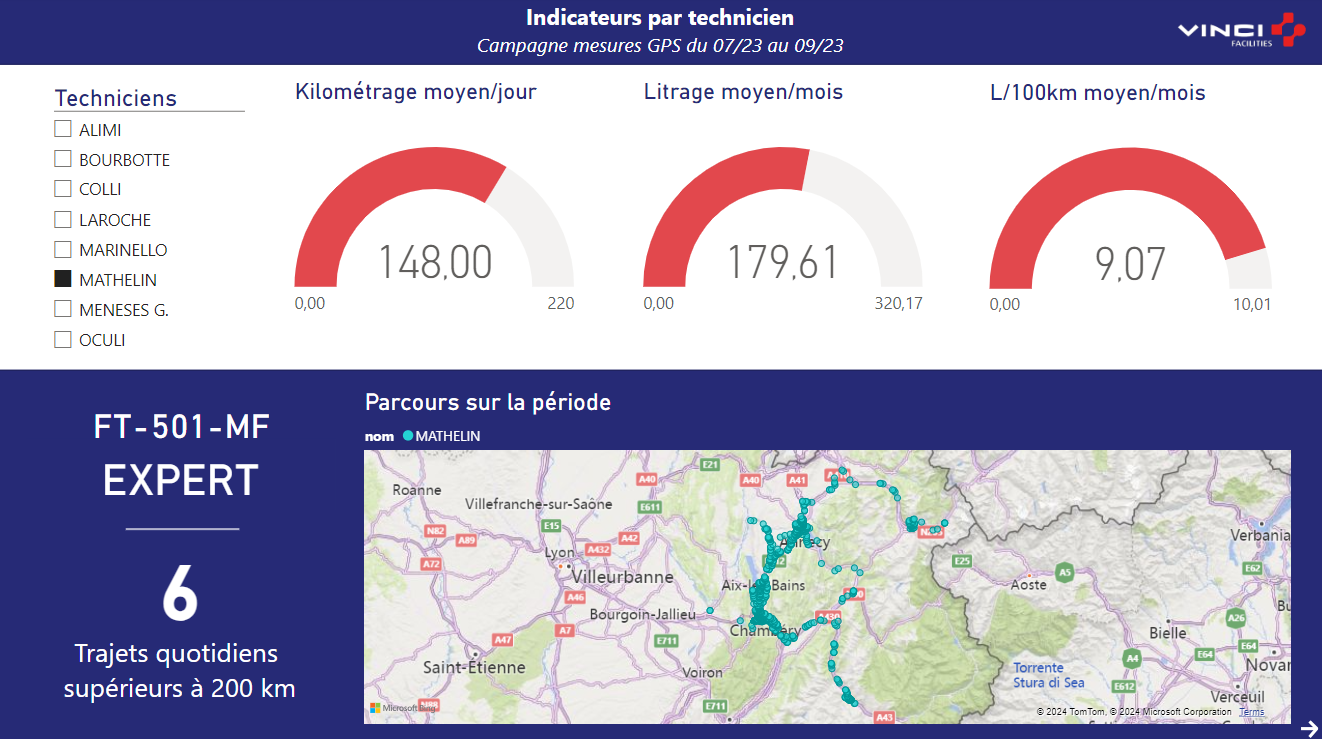

Layout of this report page (visuals, bound fields, positions):
{"tool":"powerbi","page":{"name":"Indicateurs par technicien","canvas":[1280,720],"ordinal":4},"visuals":[{"type":"gauge","title":"Litrage moyen/mois","fields":{"Y":["Avg(BDD.Moyenne Litrage)"],"MaxValue":["BDD.Max mean litr"]},"box":[618.7,79.6,279.8,275],"z":0},{"type":"gauge","title":"Kilométrage moyen/jour","fields":{"Y":["Avg(BDD.mean km)"],"MaxValue":["BDD.Max mean km"]},"box":[282.2,79.6,279.8,275],"z":1000},{"type":"shape","box":[0,0,1279.6,66.3],"z":2000},{"type":"textbox","box":[0,0,1279.6,66.3],"z":3000},{"type":"slicer","fields":{"Values":["BDD.nom"]},"box":[37.5,81.2,210,273.8],"z":4000},{"type":"image","box":[1122.8,0,156.8,66.3],"z":5000},{"type":"gauge","title":"L/100km moyen/mois","fields":{"Y":["Avg(BDD.Moyenne L/100km)"],"MaxValue":["BDD.Max mean L/100km"]},"box":[952.5,81.2,282.5,275],"z":6000},{"type":"shape","box":[0,360,1280,360],"z":7000},{"type":"card","fields":{"Values":["BDD.Total Trajets > 200 km"]},"box":[50.9,449.1,251.8,266.4],"z":8000},{"type":"card","fields":{"Values":["Min(BDD.type)"]},"box":[27.7,426.9,299.1,69.9],"z":9000},{"type":"map","title":"Parcours sur la période","fields":{"Y":["data.lat"],"X":["data.lng"],"Series":["data.nom"]},"box":[349.7,377.5,903.3,329.2],"z":10000},{"type":"shape","box":[124.2,364.2,109.7,300.3],"z":11000},{"type":"card","fields":{"Values":["Min(BDD.Immat)"]},"box":[28.9,377.5,299.1,69.9],"z":12000},{"type":"actionButton","box":[1252.7,694.5,26.4,25.5],"z":13000}]}

Visuals, with their boxes in screenshot pixels (x1, y1, x2, y2), scaled from the page's 1280x720 canvas onto the 1322x739 screenshot:
"Litrage moyen/mois" gauge: (639, 82, 928, 364)
"Kilométrage moyen/jour" gauge: (291, 82, 580, 364)
shape: (0, 0, 1321, 68)
textbox: (0, 0, 1321, 68)
slicer - BDD.nom: (39, 83, 256, 364)
image: (1160, 0, 1321, 68)
"L/100km moyen/mois" gauge: (984, 83, 1276, 366)
shape: (0, 369, 1321, 738)
card - BDD.Total Trajets > 200 km: (53, 461, 313, 734)
card - Min(BDD.type): (29, 438, 338, 510)
"Parcours sur la période" map: (361, 387, 1294, 725)
shape: (128, 374, 242, 682)
card - Min(BDD.Immat): (30, 387, 339, 459)
actionButton: (1294, 713, 1321, 738)
